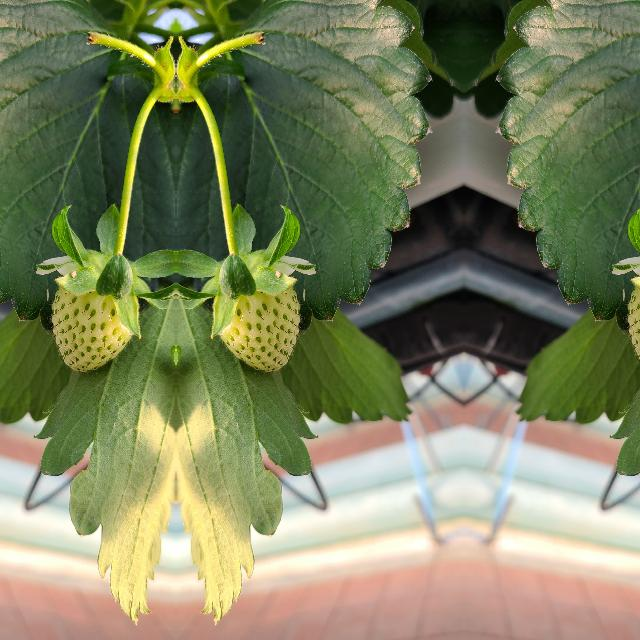Health_25: (218, 288, 298, 370), (52, 288, 132, 370)
